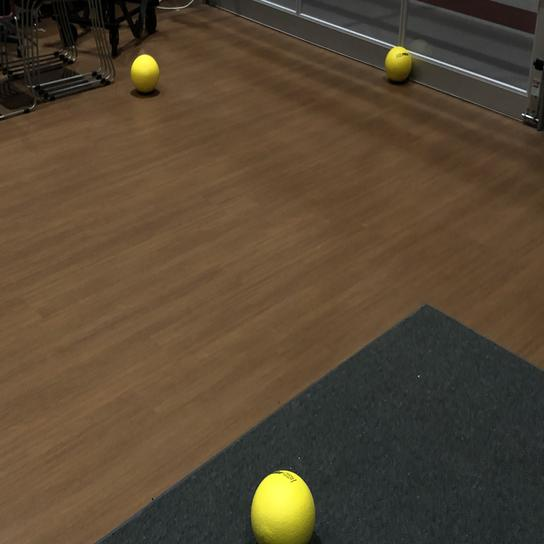ball: (246, 467, 317, 544), (128, 51, 161, 95), (383, 43, 414, 85)
